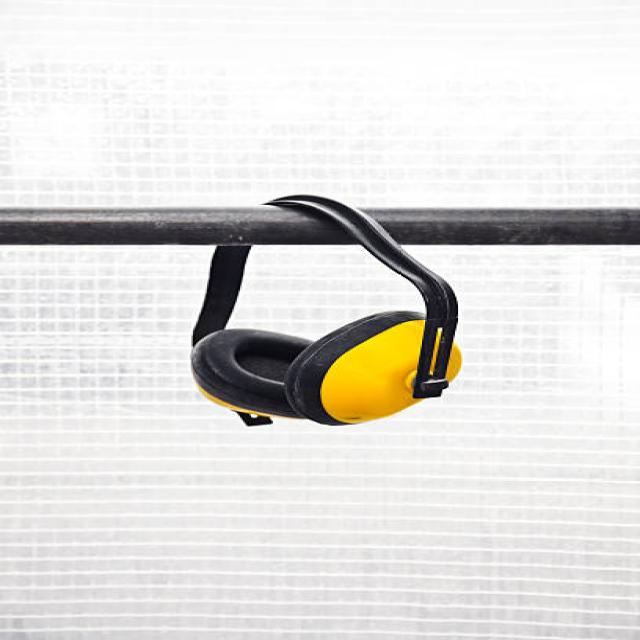Ear-protection: (198, 189, 462, 419)
